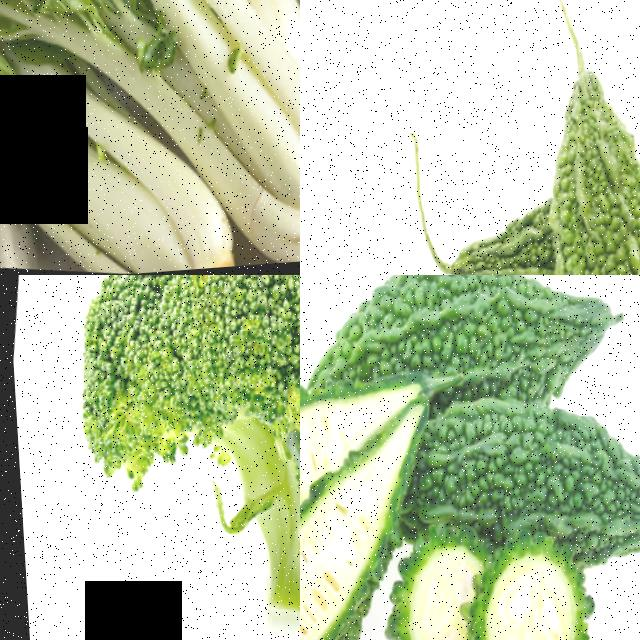bitter gourd: (300, 275, 614, 407), (382, 392, 640, 543), (508, 37, 640, 275), (445, 541, 601, 640), (424, 159, 547, 275), (300, 509, 391, 640), (367, 547, 472, 640)
bok choy: (0, 29, 198, 234), (0, 0, 300, 77)
broccoli: (8, 275, 300, 640)
